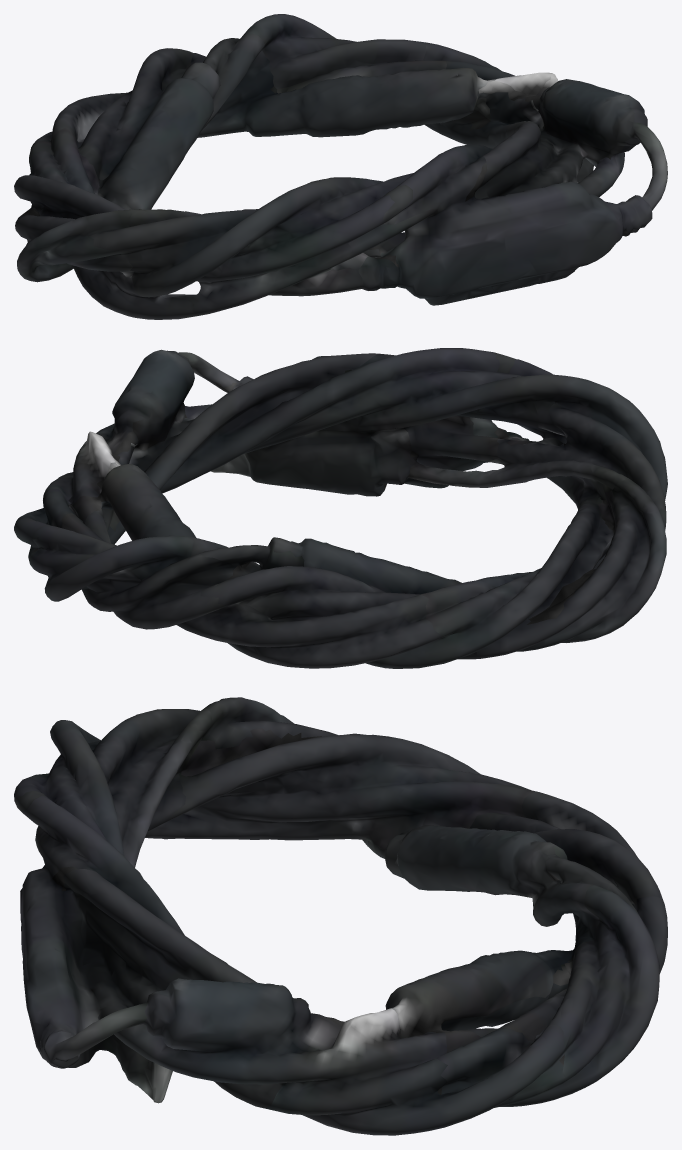
File: Ubisoft_RockSmith_Real_Tone_Cable_Xbox_360-high.glb
The picture shows the model from 3 angles, top to bottom: view 1: azimuth 30°, elevation 25°; view 2: azimuth 150°, elevation 25°; view 3: azimuth 270°, elevation 25°; orthographic projection. The views are drawn at different scales.
Visible parts, largest first — view 1: Ubisoft_RockSmith_Real_Tone_Cable_Xbox_360; view 2: Ubisoft_RockSmith_Real_Tone_Cable_Xbox_360; view 3: Ubisoft_RockSmith_Real_Tone_Cable_Xbox_360.
Boxes of the visible parts, <box> form: Ubisoft_RockSmith_Real_Tone_Cable_Xbox_360: <box>14,14,667,319</box>; Ubisoft_RockSmith_Real_Tone_Cable_Xbox_360: <box>14,348,667,668</box>; Ubisoft_RockSmith_Real_Tone_Cable_Xbox_360: <box>14,697,667,1135</box>.
Bounding box in the file's own units: 0.1716 × 0.0436 × 0.14.
1 material, 1 textured.
